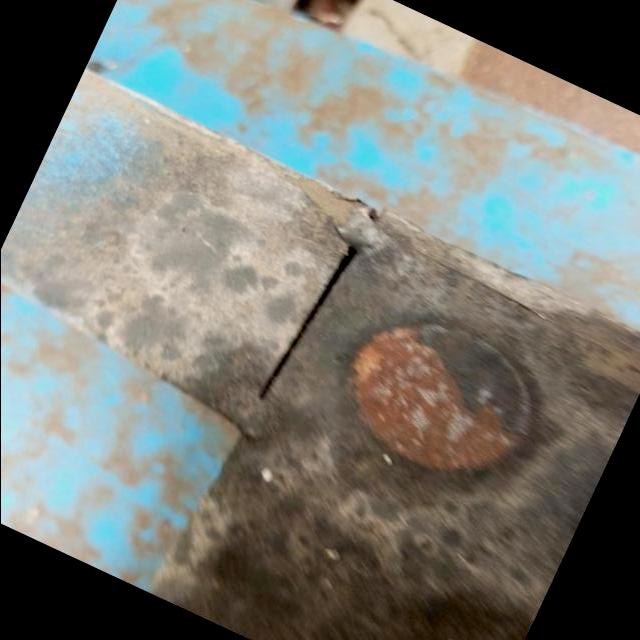defect: (254, 239, 357, 405)
